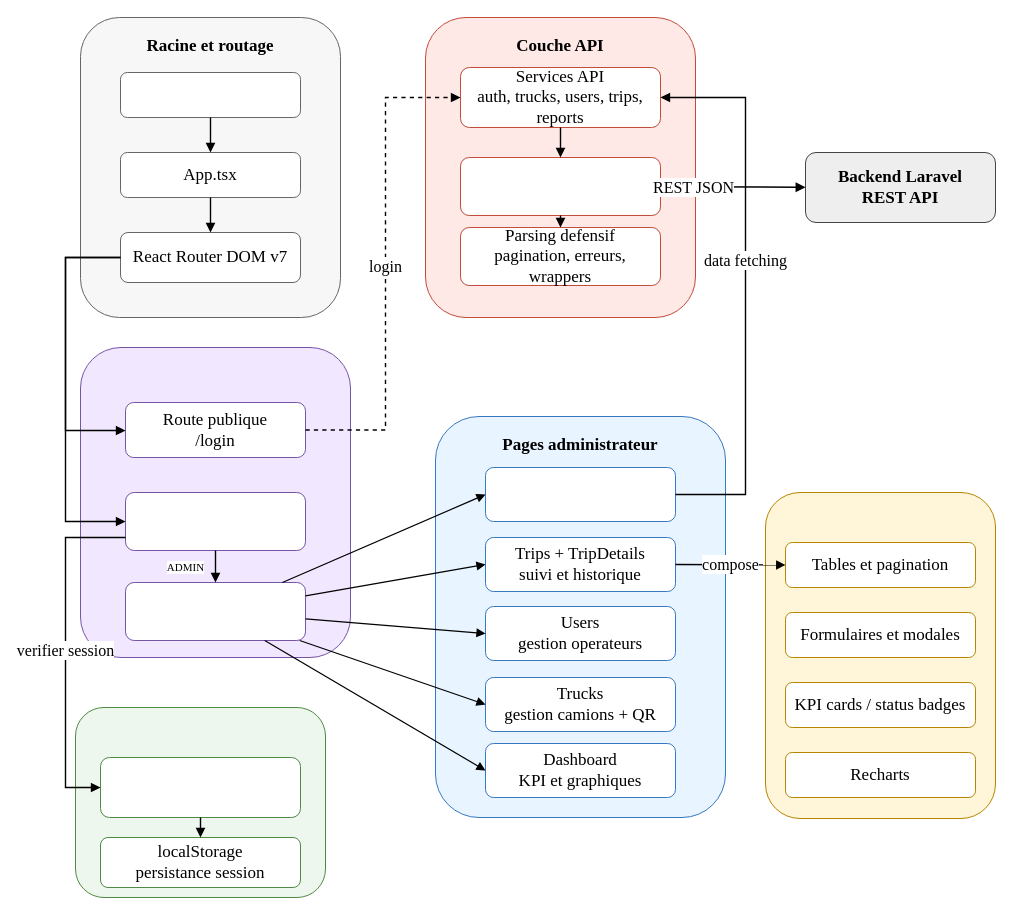
The diagram is 1013 pixels wide and 915 high, and some of its shapes have lost their labels. The box of each missing label's shape, as (x1, y1, x2, y2) in pixels:
AdminLayout sidebar + header + outlet: (124, 582, 306, 640)
Axios instance base URL + interceptors: (460, 156, 660, 216)
Composants UI: (764, 492, 996, 818)
Etat global: (74, 706, 326, 898)
main.tsx: (120, 72, 300, 118)
ProtectedRoute role ADMIN requis: (124, 492, 306, 550)
Reports analyse et exports: (484, 466, 676, 522)
Routage protege: (80, 346, 350, 658)
Zustand authStore user, token, login, logout: (100, 756, 300, 818)
